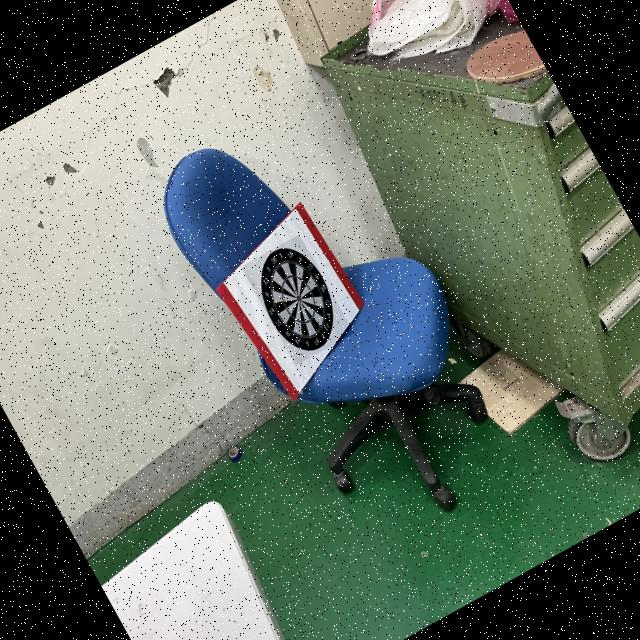archery-targets: (242, 234, 354, 365)
